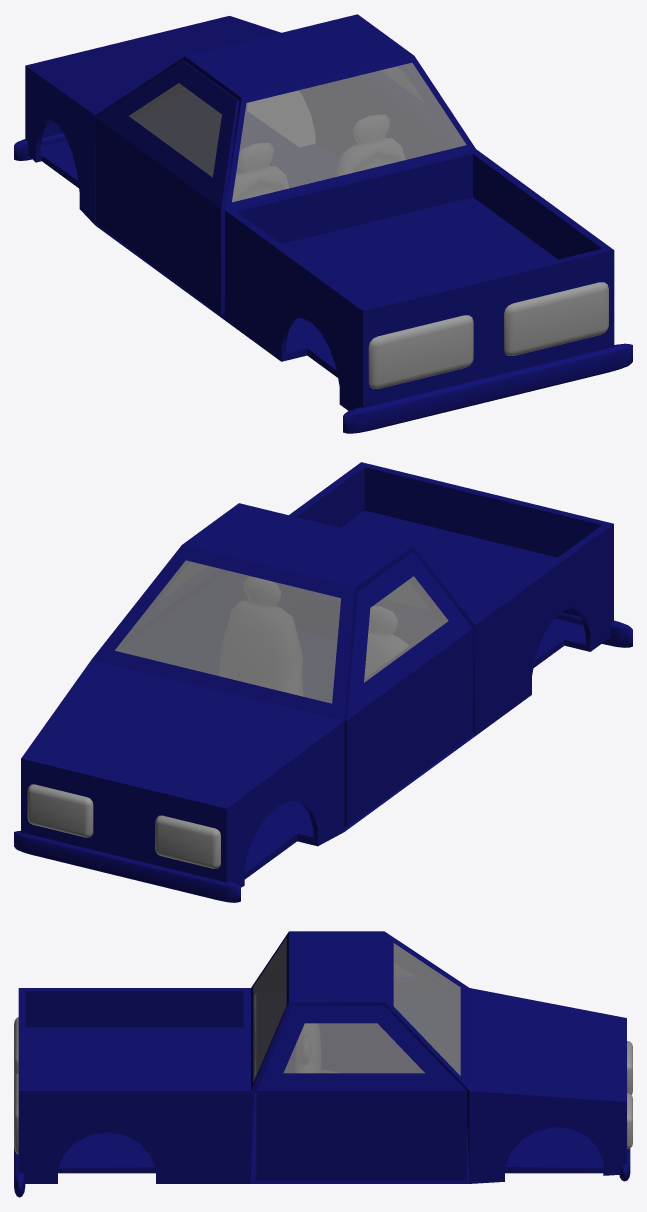
Rendered from car.FBX.
3 renders of one model, top to bottom at view 1: azimuth 30°, elevation 25°; view 2: azimuth 150°, elevation 25°; view 3: azimuth 270°, elevation 25°, orthographic. The views are drawn at different scales.
Parts seen in each view (by area): view 1: body, door_l, glass_b, bumper_b, light_lb, light_rb, door_glass_l; view 2: body, door_l, glass_f, bumper_f, door_glass_l, light_rf, light_lf, bumper_b; view 3: body, door_r, door_glass_r, glass_f, glass_b, light_rb.
Part boxes in pixels (box(x1,y1,x2,y2)): body: box(25, 14, 614, 410); door_l: box(96, 60, 239, 314); glass_b: box(232, 62, 466, 202); bumper_b: box(343, 343, 632, 433); light_lb: box(368, 315, 473, 388); light_rb: box(504, 282, 608, 355); door_glass_l: box(129, 83, 221, 177); body: box(21, 462, 613, 887); door_l: box(344, 551, 472, 827); glass_f: box(115, 560, 340, 703); bumper_f: box(14, 830, 240, 902); door_glass_l: box(364, 576, 448, 682); light_rf: box(27, 784, 93, 837); light_lf: box(155, 815, 220, 868); bumper_b: box(555, 612, 632, 647); body: box(18, 931, 626, 1183); door_r: box(256, 1005, 466, 1180); door_glass_r: box(283, 1023, 424, 1073); glass_f: box(393, 943, 460, 1075); glass_b: box(253, 938, 286, 1082); light_rb: box(14, 1073, 18, 1154).
Size of the model in its own units: 32.83 by 22.38 by 72.1.
